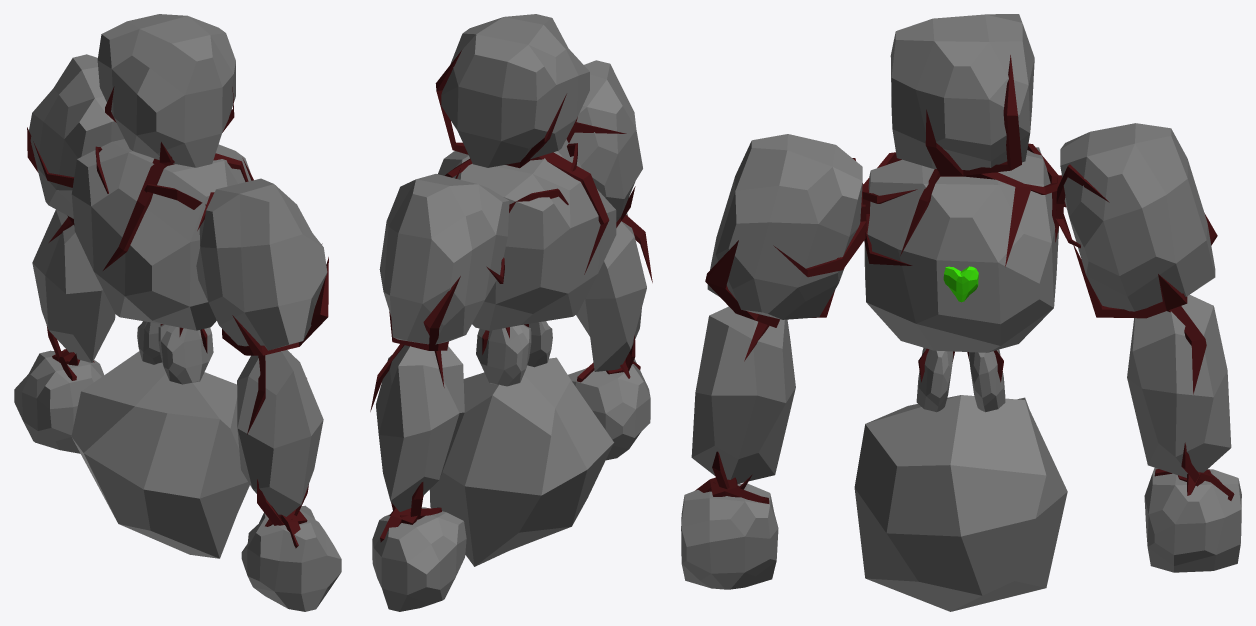
The model's file is GolemRig.fbx.
3 views of the same model, side by side, from view 1: azimuth 30°, elevation 25°; view 2: azimuth 150°, elevation 25°; view 3: azimuth 270°, elevation 25° (orthographic). The views are drawn at different scales.
Visible parts, largest first — view 1: Ball, Torso, ArmUpR, Head, ArmLoR, ArmUpL, ArmLoL, HandR, HandL, LegR, LegL; view 2: Ball, Torso, ArmUpL, Head, ArmLoL, HandL, ArmLoR, ArmUpR, HandR, LegL, LegR; view 3: Ball, Torso, ArmUpL, ArmUpR, Head, ArmLoL, ArmLoR, HandR, HandL, LegR, LegL, Heart.
Boxes of the visible parts, left/top/right/bottom form: Ball: left=71, top=351, right=249, bottom=558; Torso: left=71, top=139, right=253, bottom=330; ArmUpR: left=196, top=178, right=328, bottom=355; Head: left=97, top=14, right=235, bottom=167; ArmLoR: left=237, top=350, right=323, bottom=525; ArmUpL: left=27, top=54, right=124, bottom=225; ArmLoL: left=32, top=209, right=115, bottom=365; HandR: left=241, top=505, right=341, bottom=611; HandL: left=14, top=349, right=103, bottom=453; LegR: left=158, top=324, right=213, bottom=384; LegL: left=137, top=321, right=163, bottom=364; Ball: left=429, top=357, right=613, bottom=566; Torso: left=438, top=139, right=616, bottom=330; ArmUpL: left=379, top=174, right=509, bottom=350; Head: left=435, top=14, right=589, bottom=167; ArmLoL: left=370, top=344, right=464, bottom=519; HandL: left=372, top=507, right=466, bottom=611; ArmLoR: left=576, top=213, right=652, bottom=374; ArmUpR: left=566, top=60, right=642, bottom=227; HandR: left=568, top=358, right=650, bottom=460; LegL: left=476, top=324, right=531, bottom=386; LegR: left=524, top=321, right=552, bottom=367; Ball: left=854, top=395, right=1067, bottom=611; Torso: left=862, top=143, right=1059, bottom=352; ArmUpL: left=1055, top=123, right=1217, bottom=318; ArmUpR: left=705, top=134, right=866, bottom=327; Head: left=890, top=14, right=1034, bottom=175; ArmLoL: left=1127, top=294, right=1231, bottom=486; ArmLoR: left=691, top=306, right=795, bottom=489; HandR: left=681, top=477, right=778, bottom=589; HandL: left=1144, top=468, right=1241, bottom=572; LegR: left=916, top=347, right=954, bottom=412; LegL: left=967, top=349, right=1005, bottom=412; Heart: left=943, top=266, right=978, bottom=302.
Size of the model in its own units: 921 by 2761 by 2422.
